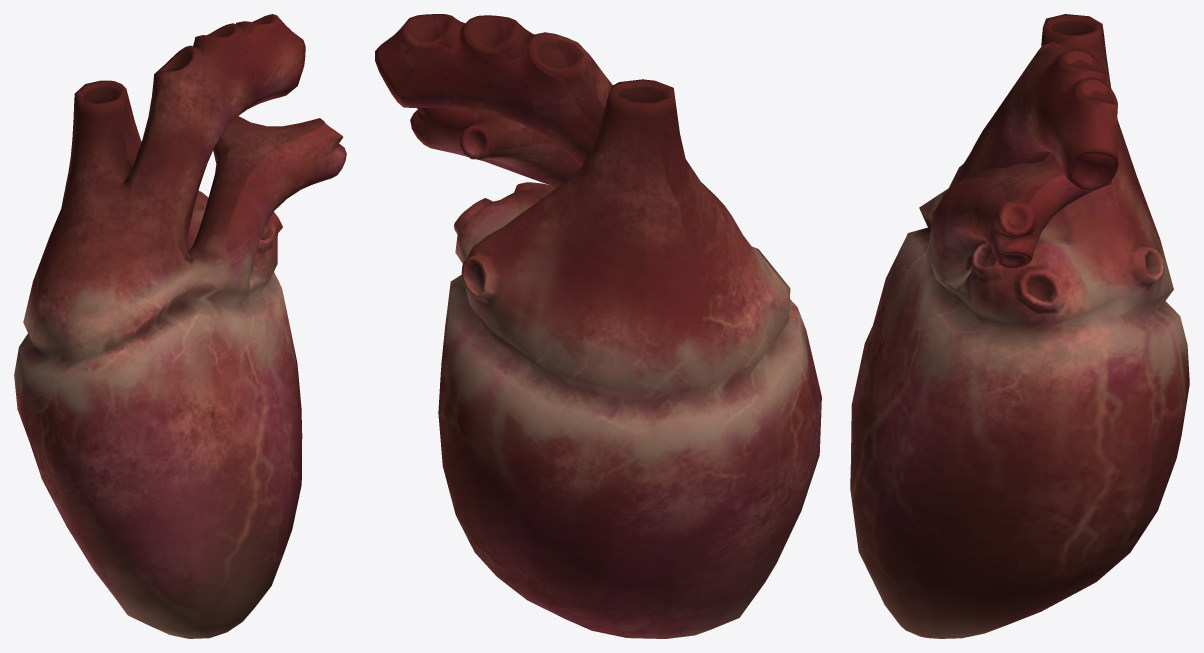
Rendered from HeartFinalized.glb.
The picture shows the model from 3 angles, left to right: view 1: azimuth 30°, elevation 25°; view 2: azimuth 150°, elevation 25°; view 3: azimuth 270°, elevation 25°; orthographic projection. The views are drawn at different scales.
Visible parts, largest first — view 1: heart_2; view 2: heart_2; view 3: heart_2.
Boxes of the visible parts, x1,y1,x2,y2 form: heart_2: (14,14,346,638); heart_2: (375,14,821,638); heart_2: (850,14,1189,638).
Bounding box in the file's own units: 1.68 × 2.75 × 1.37.
1 material, 1 textured.
